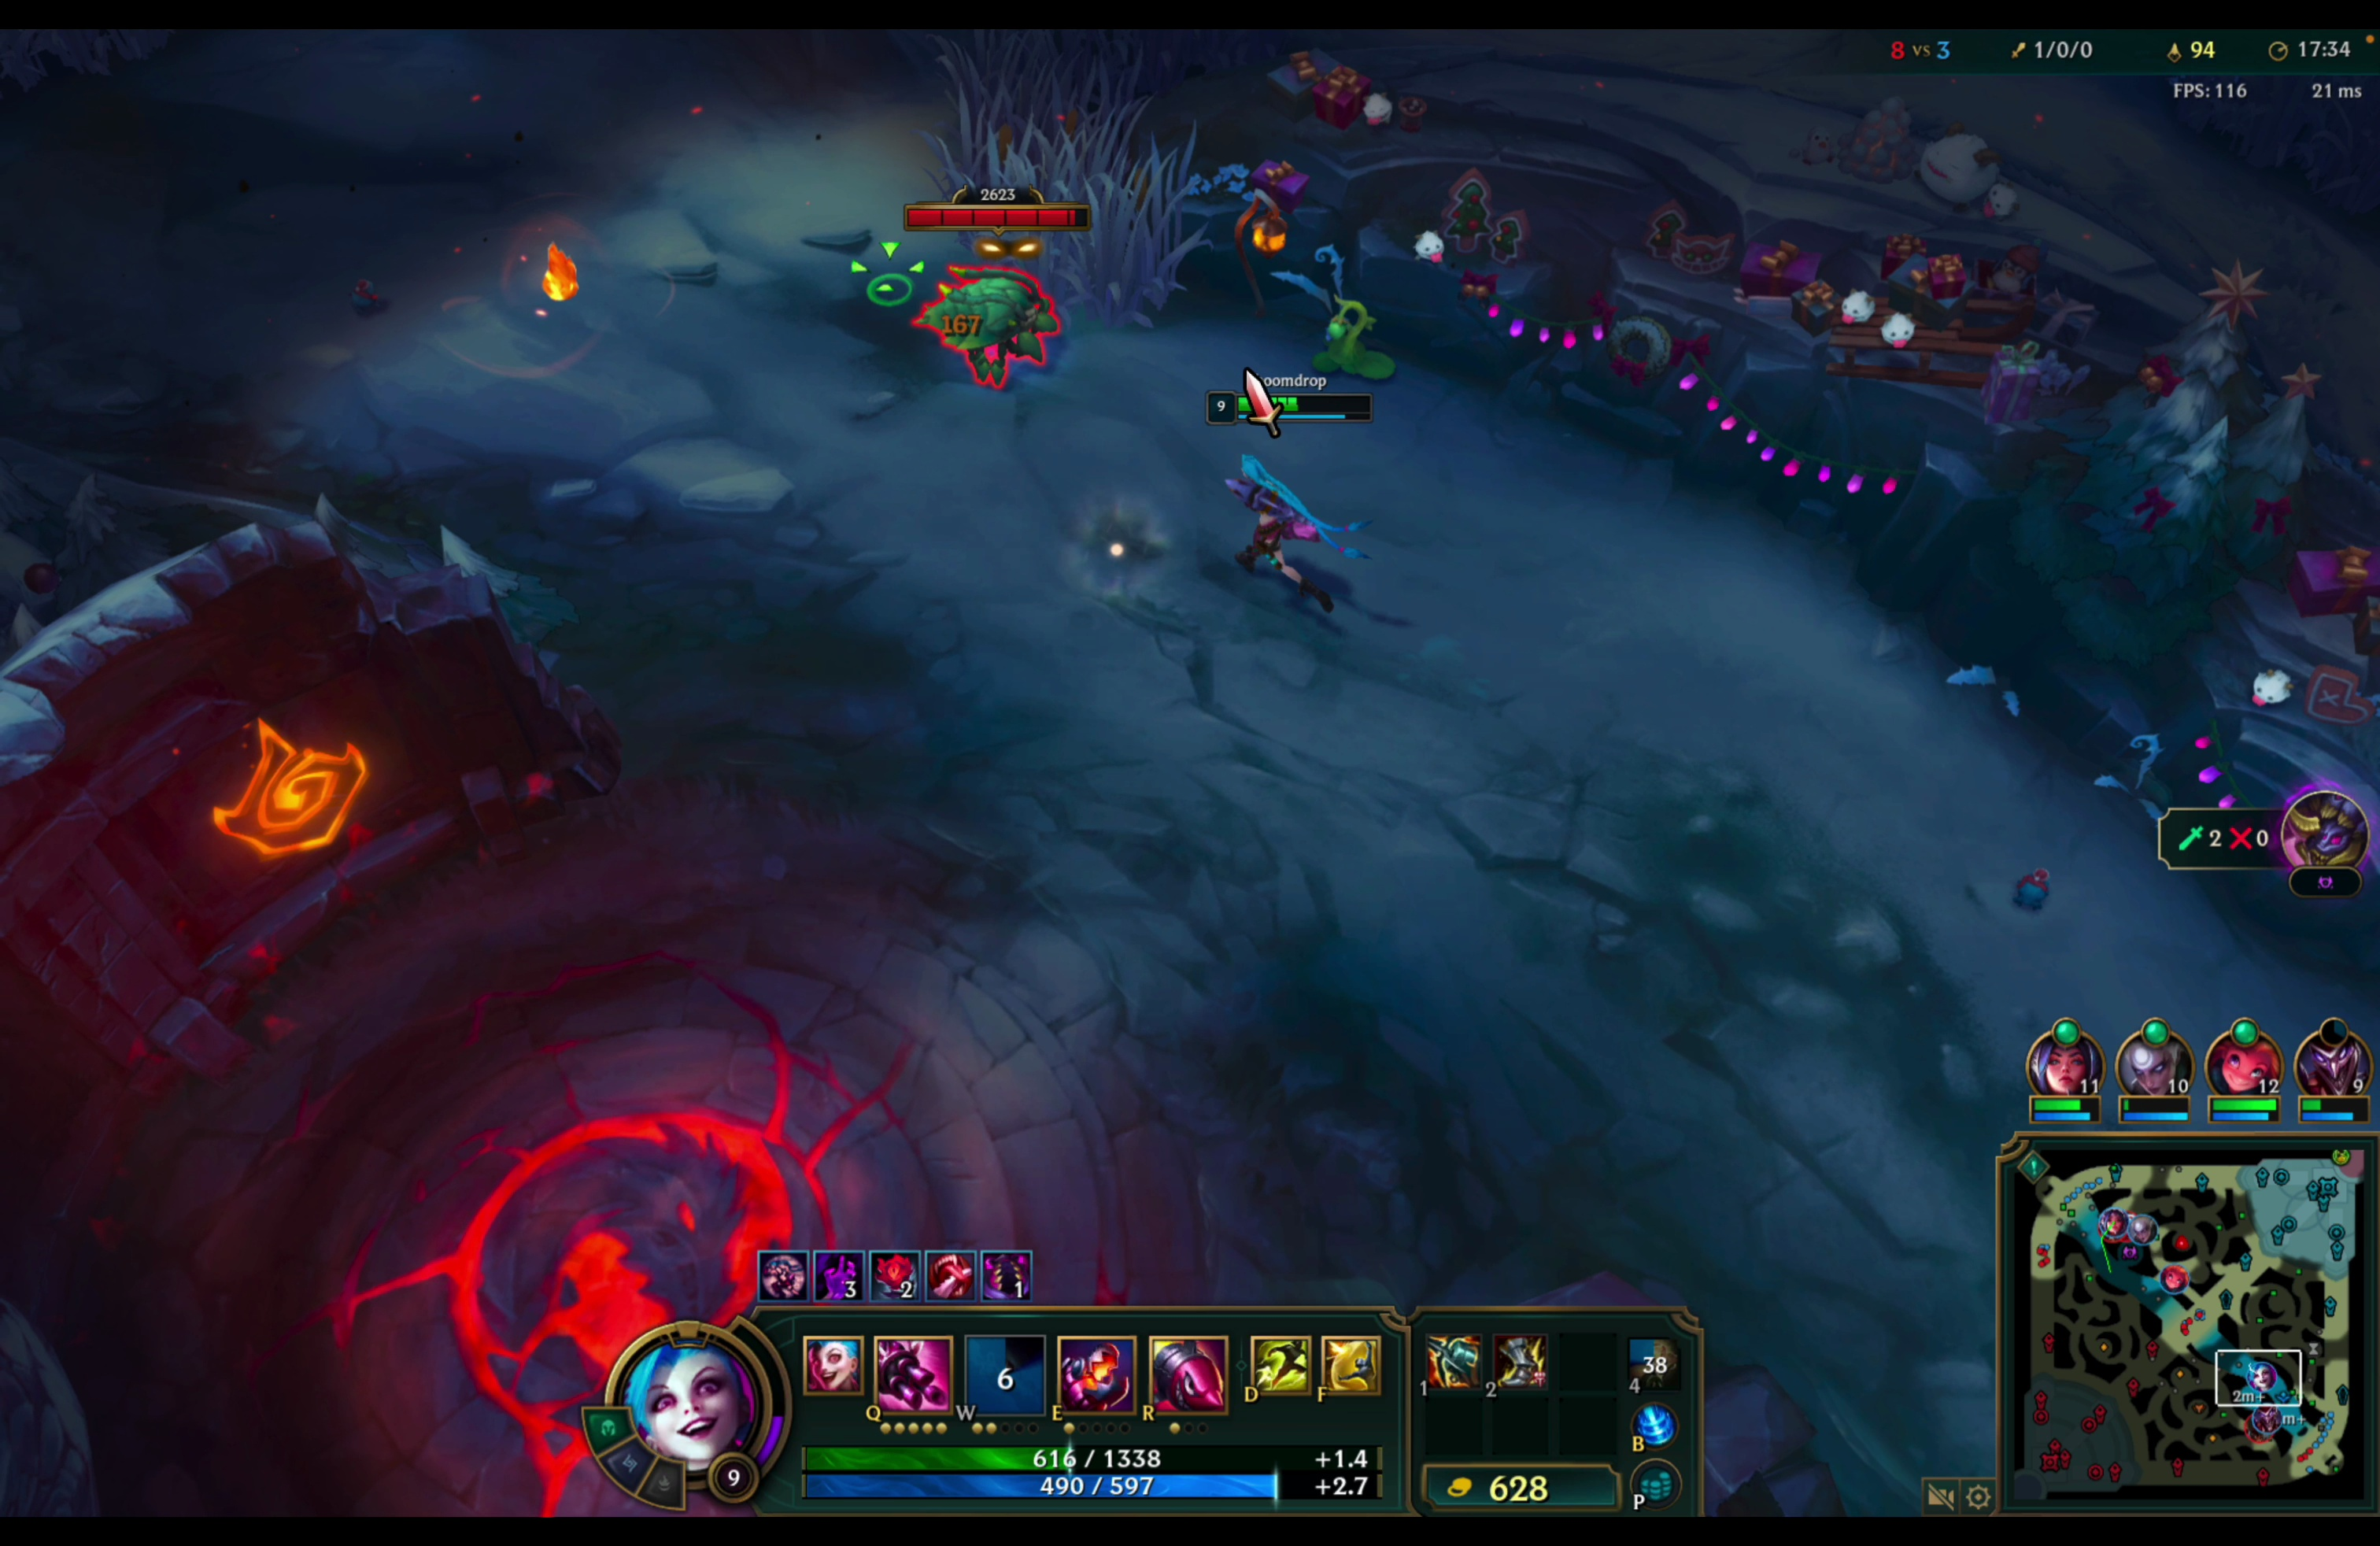LABEL_W_IMPACT: (829, 139, 1105, 413)
